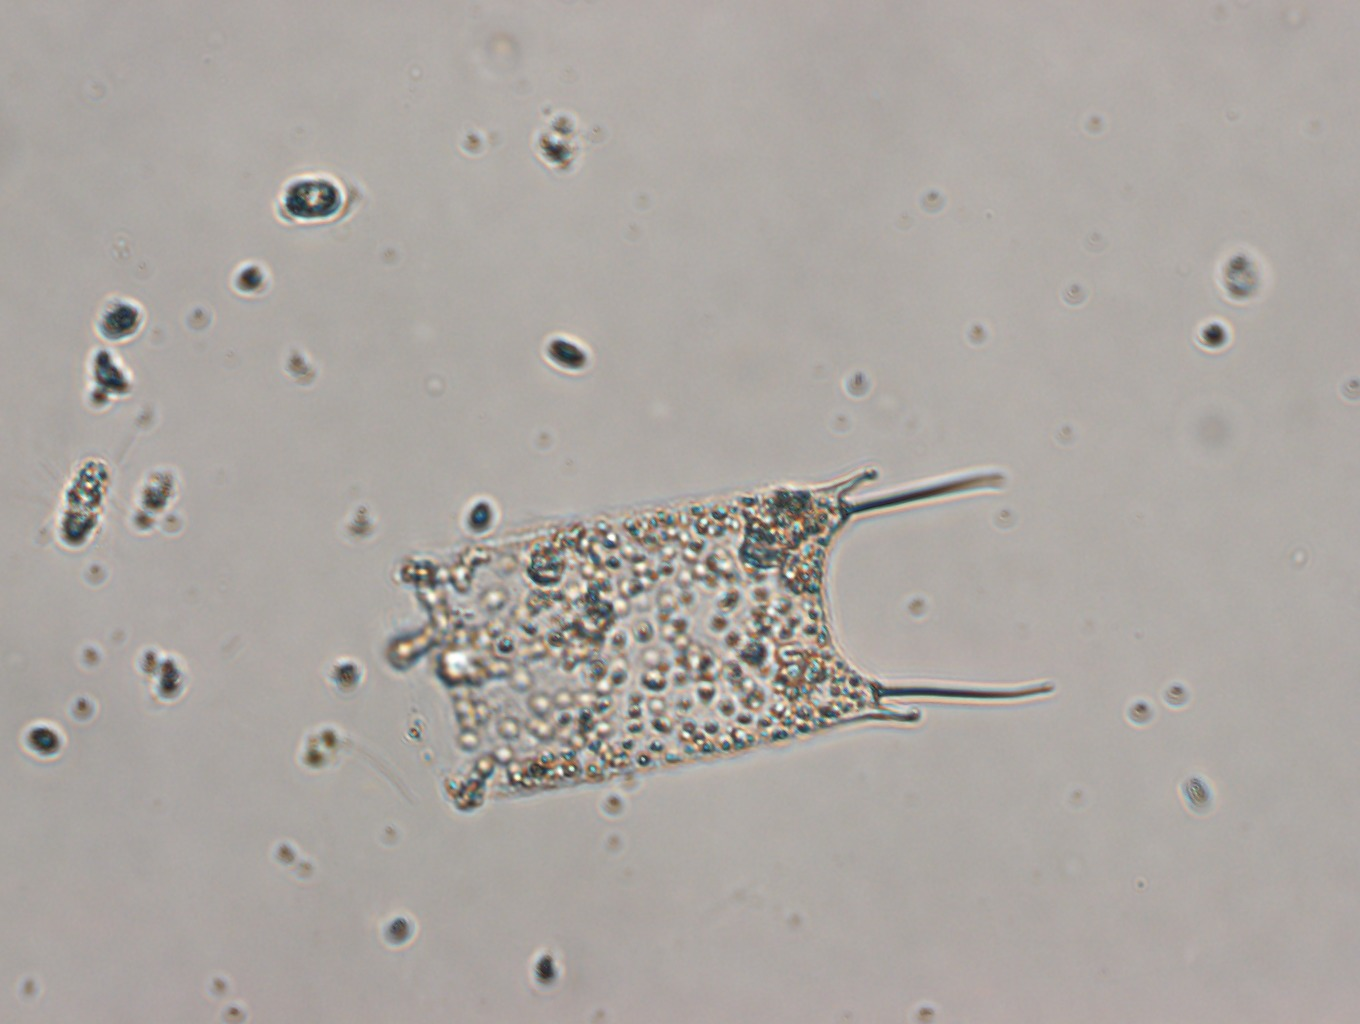biddulphia: (395, 466, 1056, 816)
